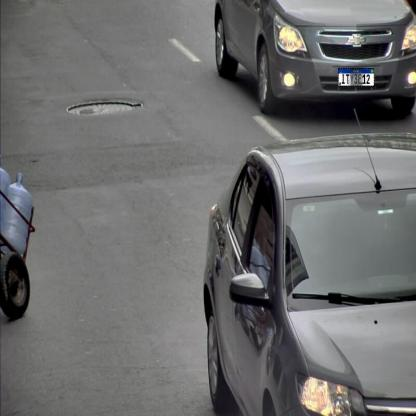PlacaM: (338, 68, 374, 87)
